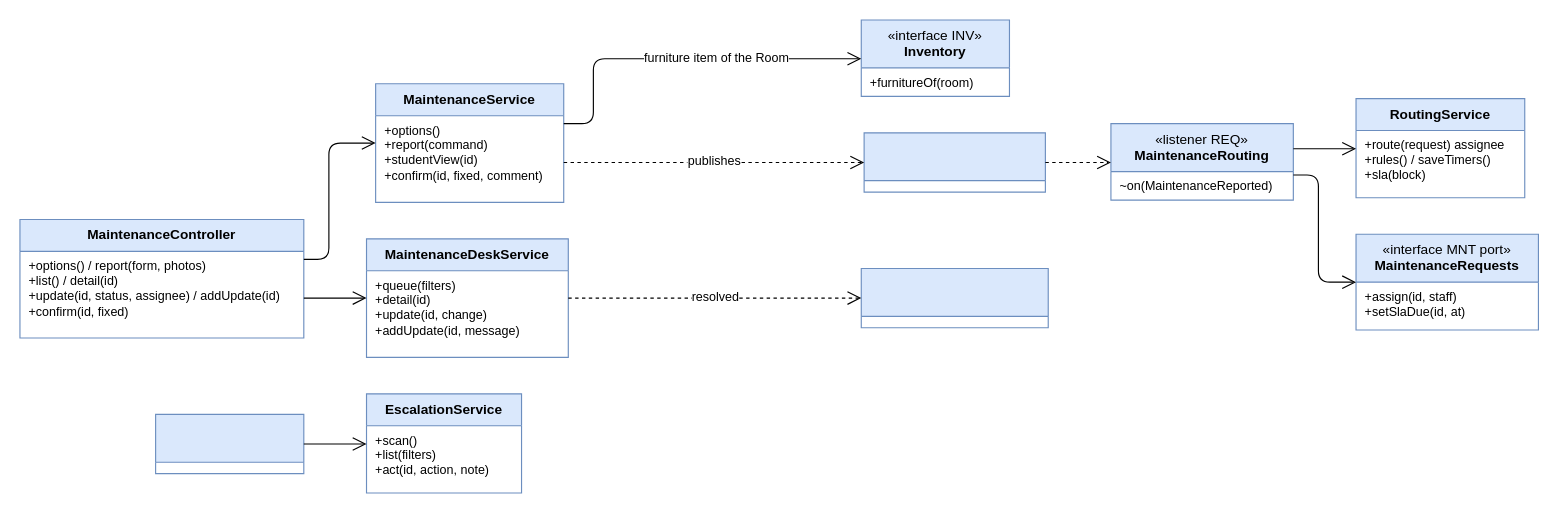
This 1558x516 diagram has some shape labels left out. Each missing label, with the centre of its shape:
"«event» FurnitureRepairLogged" goes at point 954,297.
"«event» MaintenanceReported" goes at point 954,162.
"«scheduled 15 min» EscalationJob" goes at point 229,443.
